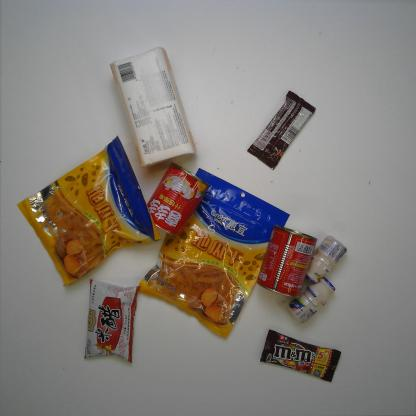Canned Food: (140, 161, 208, 237), (257, 224, 318, 301)
Chocolate: (247, 88, 320, 171), (259, 328, 343, 384)
Dried Fruit: (139, 166, 294, 340), (16, 136, 159, 285)
Milk: (286, 276, 338, 325), (303, 234, 348, 285)
Seasoner: (83, 278, 145, 365)
Tissue: (101, 45, 198, 165)
